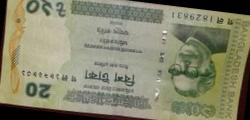20 taka: (7, 1, 238, 120)
